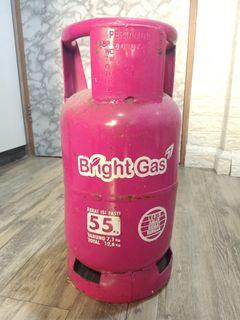bright_gas: (59, 16, 183, 304)
